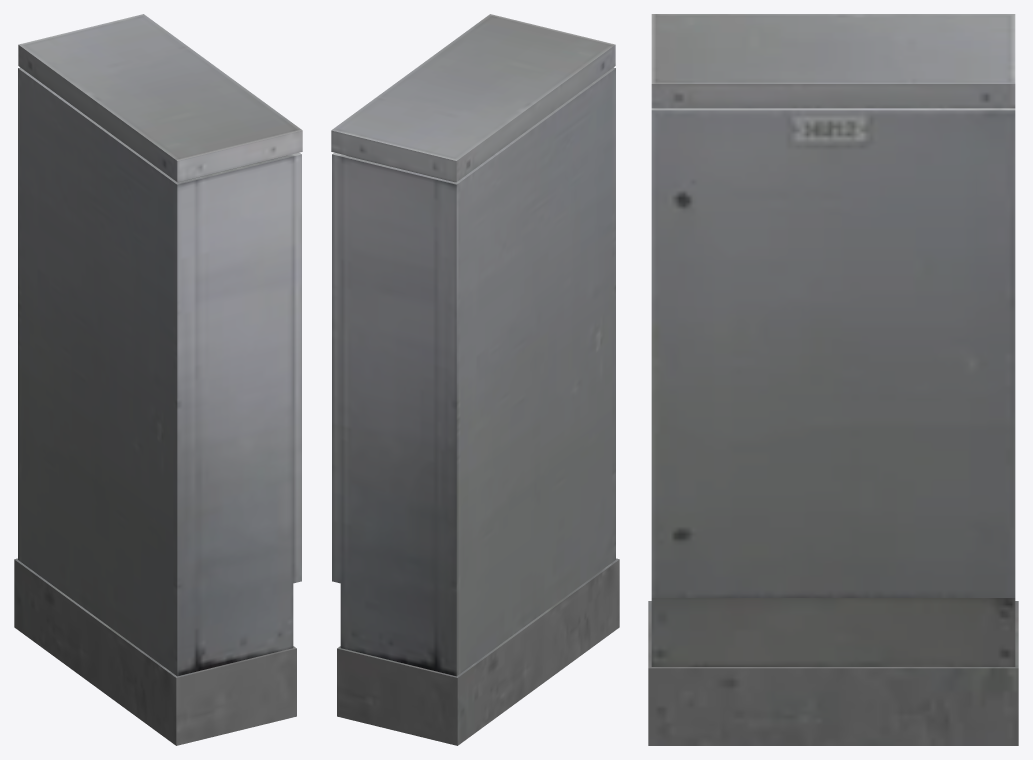
File: RealisticElectricalBox.glb
3 renders of one model, left to right at view 1: azimuth 30°, elevation 25°; view 2: azimuth 150°, elevation 25°; view 3: azimuth 270°, elevation 25°, orthographic. The views are drawn at different scales.
Parts seen in each view (by area): view 1: ElectricBox; view 2: ElectricBox; view 3: ElectricBox.
Part boxes in pixels (x1=…): ElectricBox: x1=14, y1=14, x2=302, y2=745; ElectricBox: x1=331, y1=14, x2=619, y2=745; ElectricBox: x1=648, y1=14, x2=1018, y2=745.
Bounding box in the file's own units: 0.3693 × 1.61 × 0.8102.
1 material, 1 textured.
